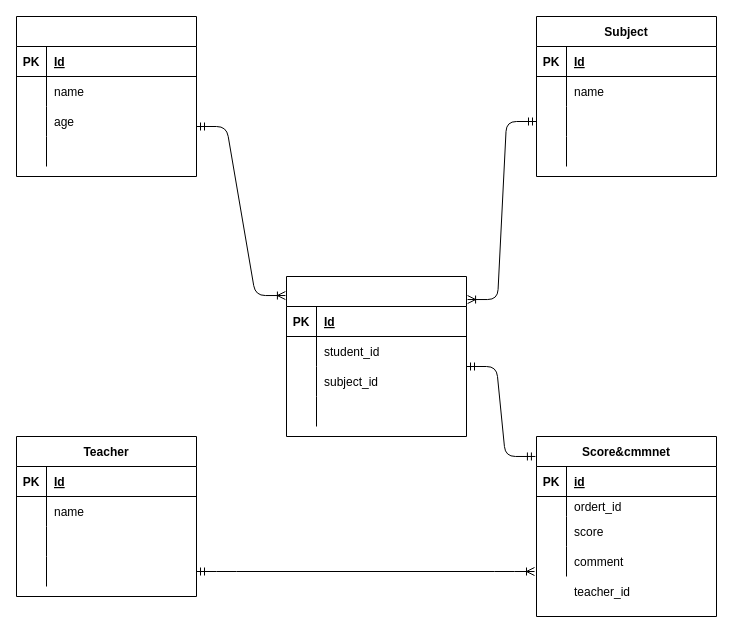
This 733x633 diagram has some shape labels left out. Each missing label, with the box of its shape:
Order: (286, 276, 466, 436)
Student: (16, 16, 196, 176)
